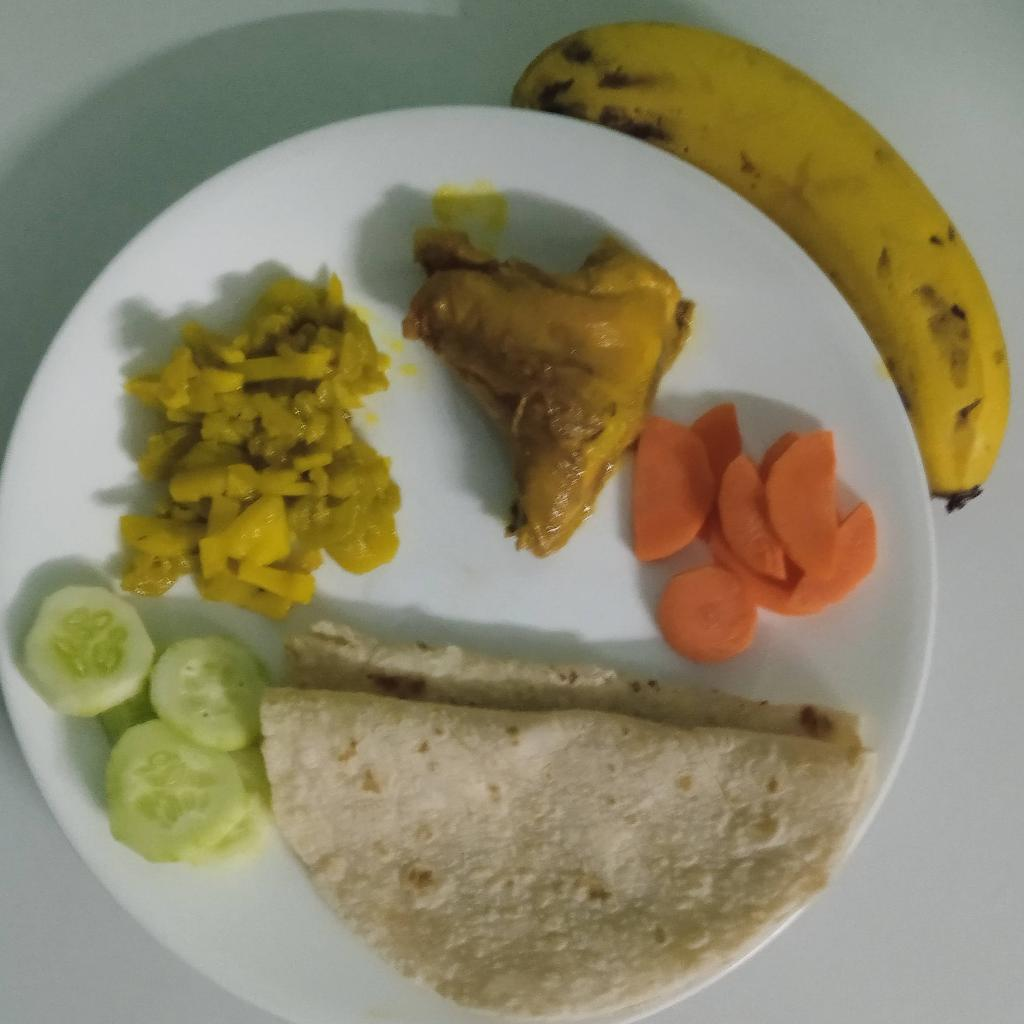banana: (515, 23, 1006, 500)
carrot: (632, 398, 876, 657)
chicken: (401, 235, 701, 555)
cucumber: (24, 586, 269, 863)
ruti: (266, 623, 881, 1016)
vaji: (113, 271, 398, 616)
